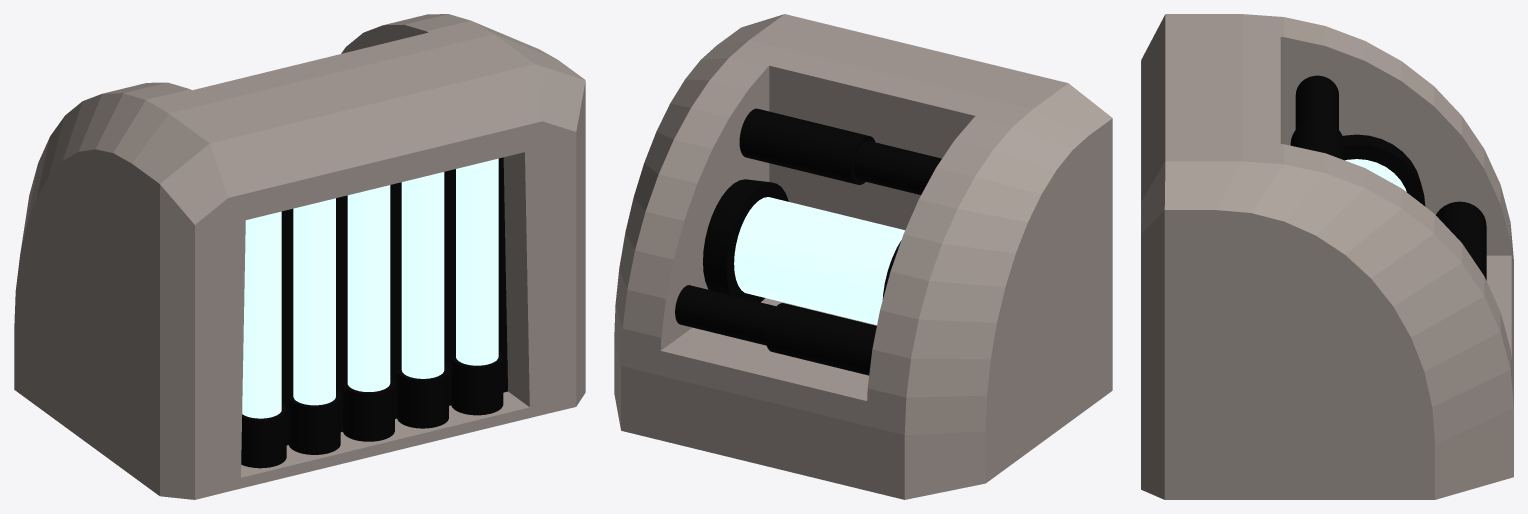
Rendered from LaboMachine.fbx.
The picture shows the model from 3 angles, left to right: view 1: azimuth 30°, elevation 25°; view 2: azimuth 150°, elevation 25°; view 3: azimuth 270°, elevation 25°; orthographic projection. The views are drawn at different scales.
Parts seen in each view (by area): view 1: Machine; view 2: Machine; view 3: Machine.
Part boxes in pixels (box(x1,y1,x2,y2)): Machine: box(14, 14, 585, 499); Machine: box(614, 14, 1112, 499); Machine: box(1141, 14, 1513, 499).
Size of the model in its own units: 579 by 442 by 473.
